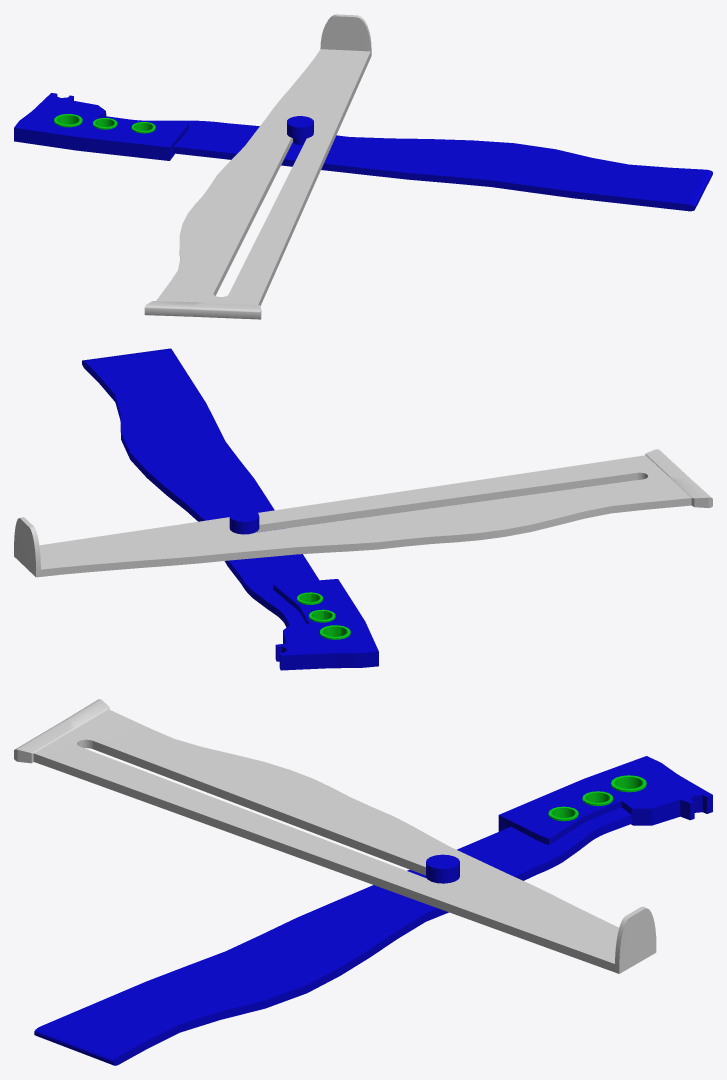
Rendered from Lap Cutter.fbx.
3 views of the same model, one above another, from view 1: azimuth 30°, elevation 25°; view 2: azimuth 150°, elevation 25°; view 3: azimuth 270°, elevation 25° (orthographic). The views are drawn at different scales.
Parts seen in each view (by area): view 1: Kiri, Kanan; view 2: Kanan, Kiri; view 3: Kanan, Kiri.
Boxes of the visible parts, x1=… form: Kiri: x1=14, y1=93, x2=712, y2=211; Kanan: x1=144, y1=14, x2=371, y2=319; Kanan: x1=14, y1=449, x2=712, y2=577; Kiri: x1=82, y1=348, x2=378, y2=670; Kanan: x1=14, y1=699, x2=656, y2=973; Kiri: x1=34, y1=756, x2=712, y2=1065.
Size of the model in its own units: 13.9 by 1.13 by 11.7.
